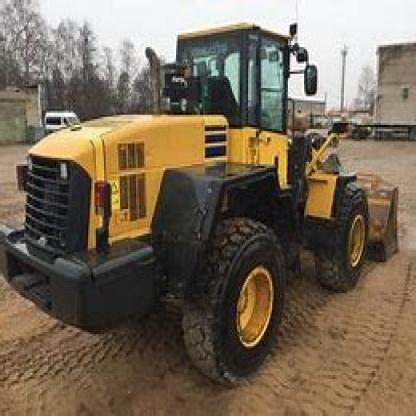bull_dozer/loader/grader: (6, 13, 406, 390)
